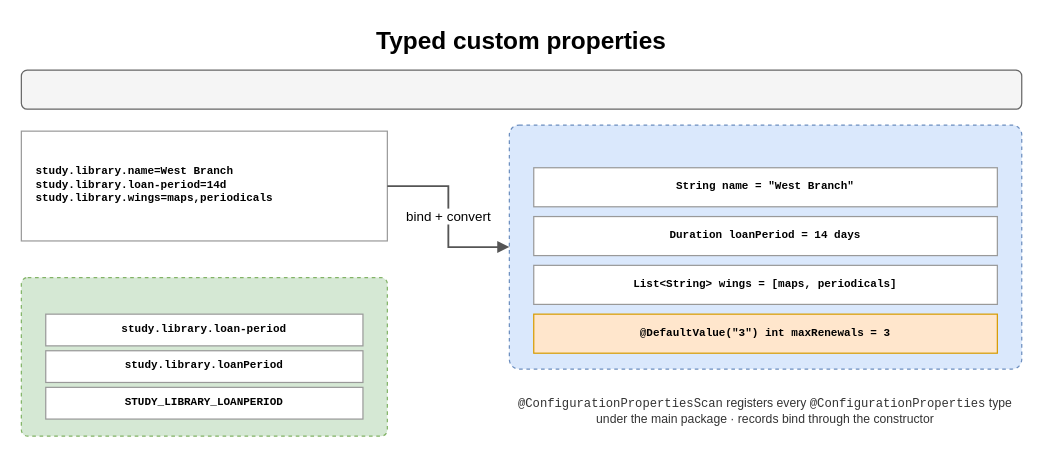
Image size: 1043x458. Some labels were removed from this diagram. Each missing label, with the box of its shape:
@ConfigurationProperties binds a group of settings to one typed object: (20, 69, 1022, 109)
@ConfigurationProperties("study.library") record LibraryProperties: (508, 124, 1022, 369)
relaxed binding: same property: (20, 276, 387, 436)
